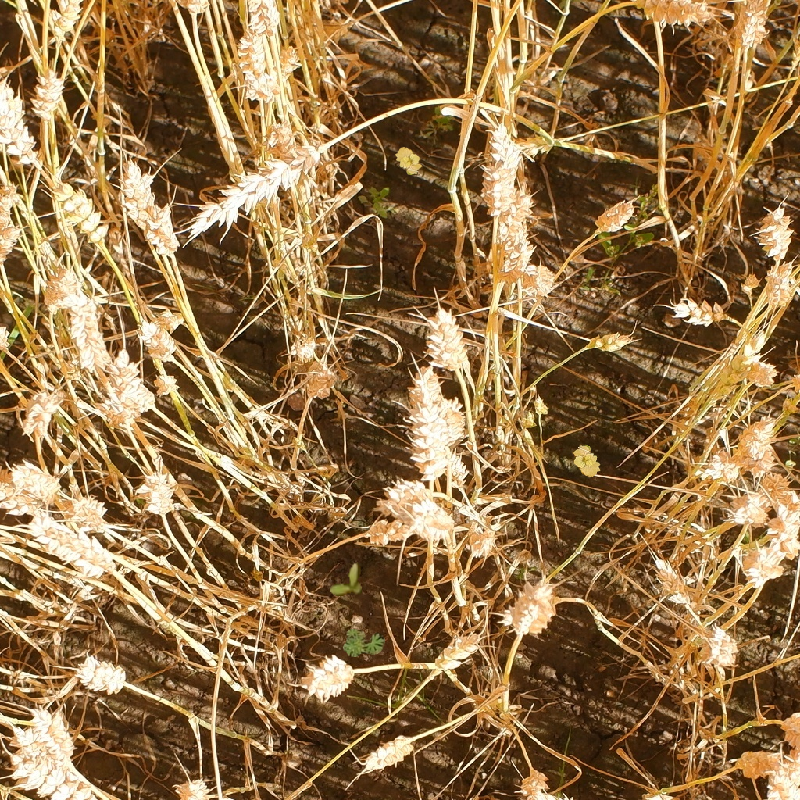spikelet: (184, 138, 329, 239), (405, 366, 469, 484), (115, 156, 182, 258), (52, 264, 113, 375), (24, 511, 119, 580), (234, 1, 294, 99), (7, 749, 108, 800), (741, 503, 799, 591), (487, 178, 537, 275), (1, 63, 42, 168), (50, 179, 110, 246), (104, 346, 157, 421), (501, 574, 559, 639), (422, 303, 475, 374), (23, 702, 78, 764), (71, 649, 132, 698), (302, 651, 358, 703), (691, 618, 743, 673), (650, 556, 701, 612), (18, 381, 68, 438), (6, 456, 64, 504), (738, 414, 782, 475), (133, 466, 182, 520), (430, 628, 484, 676), (407, 496, 458, 546), (132, 313, 182, 364), (631, 1, 715, 31), (670, 292, 734, 331), (360, 732, 418, 774), (754, 204, 797, 260), (28, 67, 69, 124), (484, 118, 527, 172), (377, 475, 432, 516), (64, 488, 113, 533), (461, 511, 504, 561), (514, 258, 560, 304), (726, 486, 773, 531), (42, 1, 89, 45), (734, 1, 773, 54), (694, 447, 743, 488), (298, 355, 340, 402), (760, 752, 799, 799), (765, 260, 799, 311), (593, 197, 637, 234), (740, 354, 780, 391), (174, 776, 214, 800)
weed: (568, 442, 605, 479), (343, 629, 385, 657), (330, 562, 362, 596), (395, 147, 423, 175)
